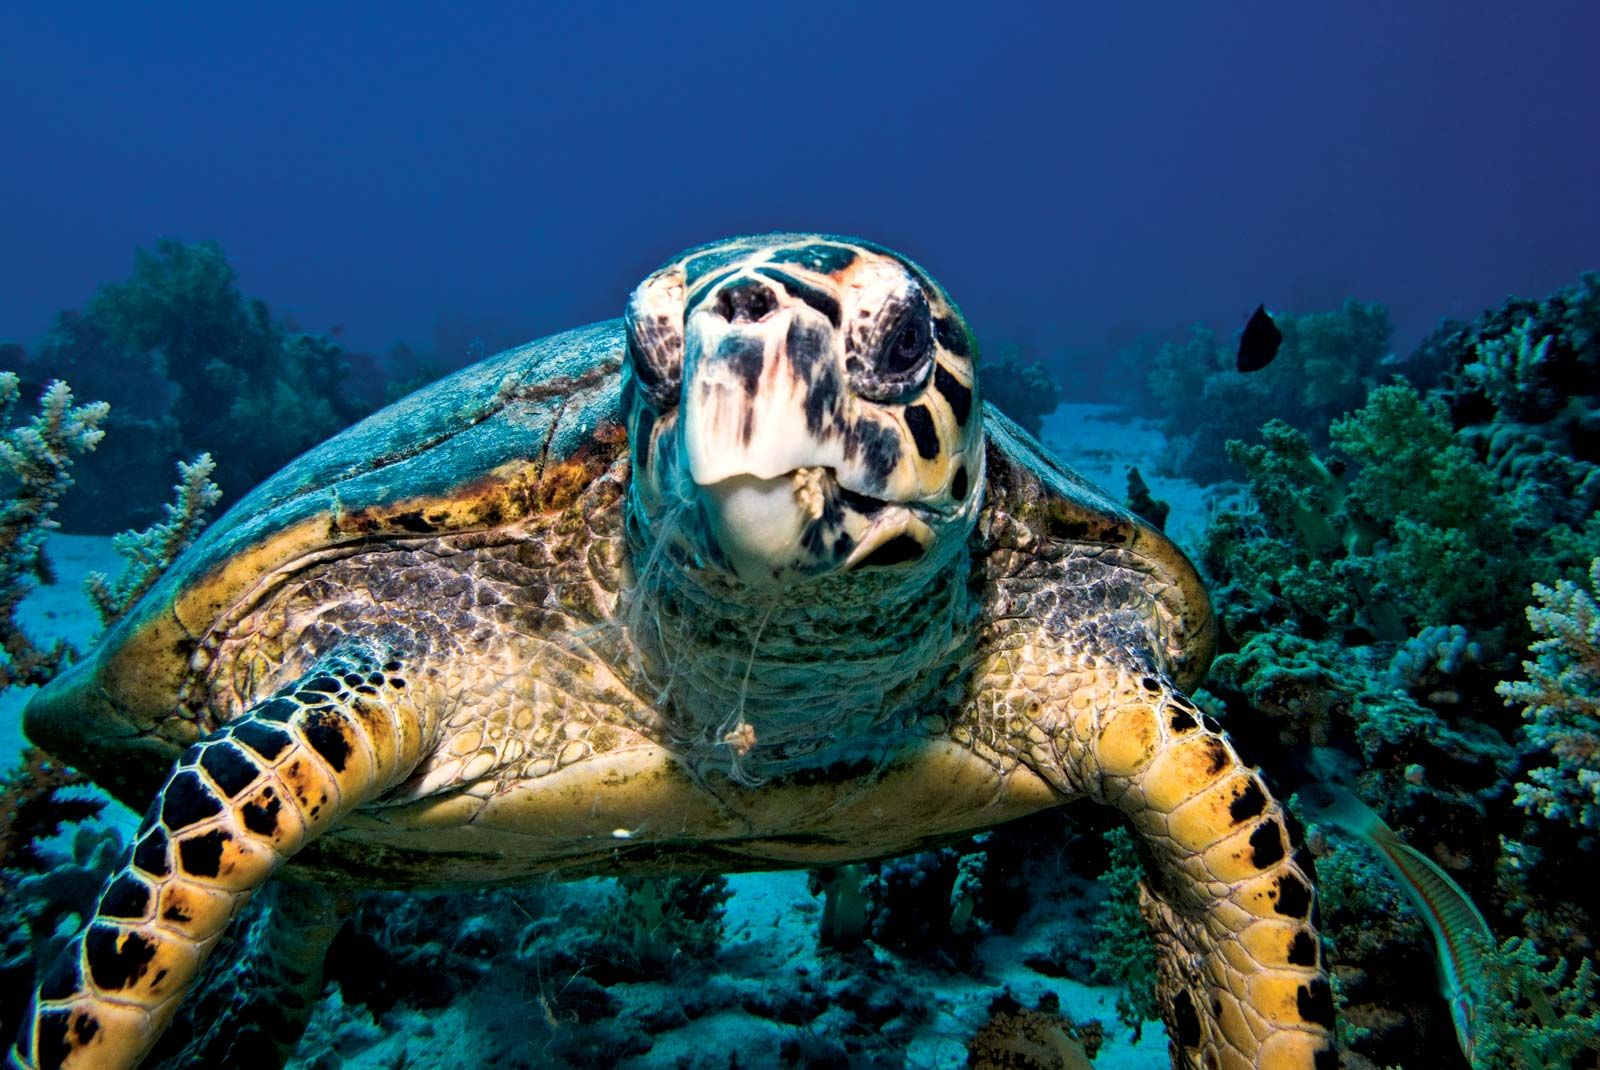eye: (833, 269, 943, 402), (621, 297, 691, 417)
mouth: (683, 443, 972, 567)
